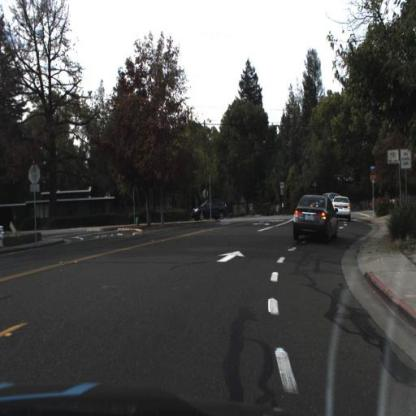car: (294, 195, 339, 242), (193, 200, 228, 221), (331, 195, 353, 223)
